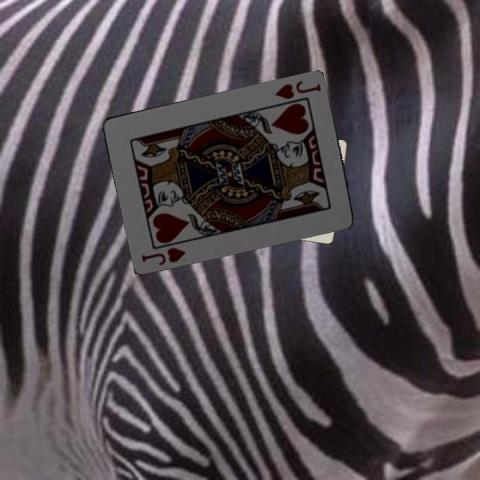Jh: (272, 77, 323, 101), (139, 244, 187, 267)
